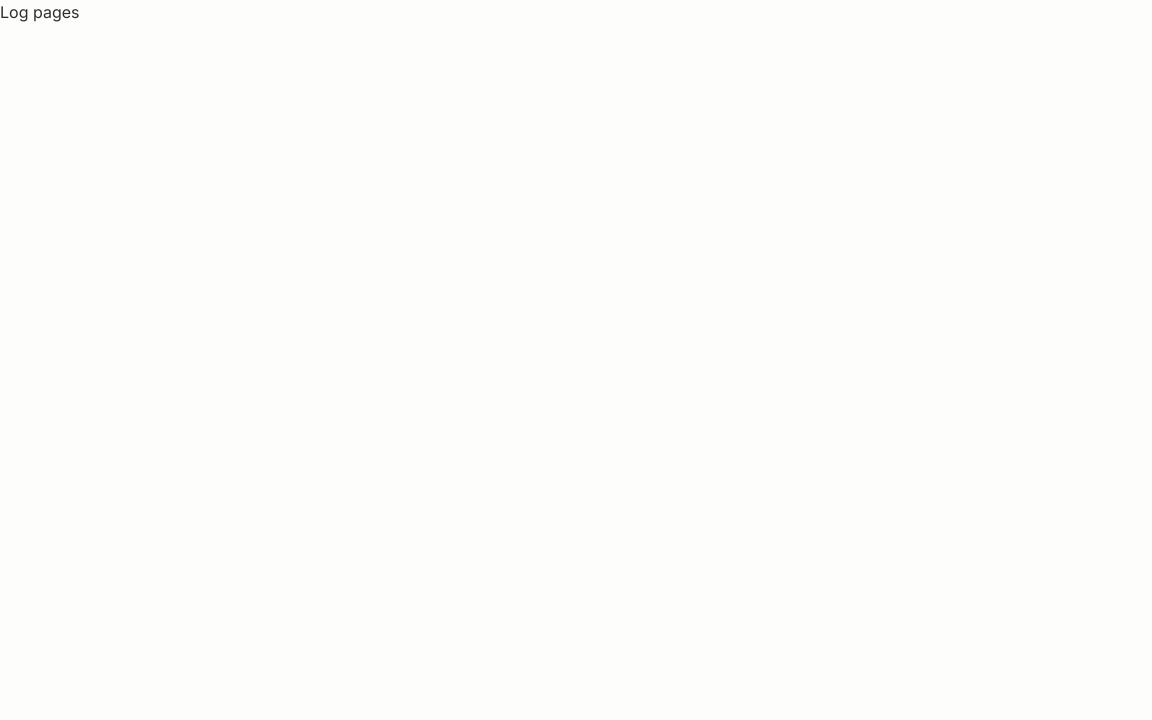
Test: HabitQuantityPopover › uses ResponsiveDialog (Drawer + back navigation) on mobile without nesting buttons
Step 1. Click the button "Log pages" → (40,12), box [0, 0, 80, 24]
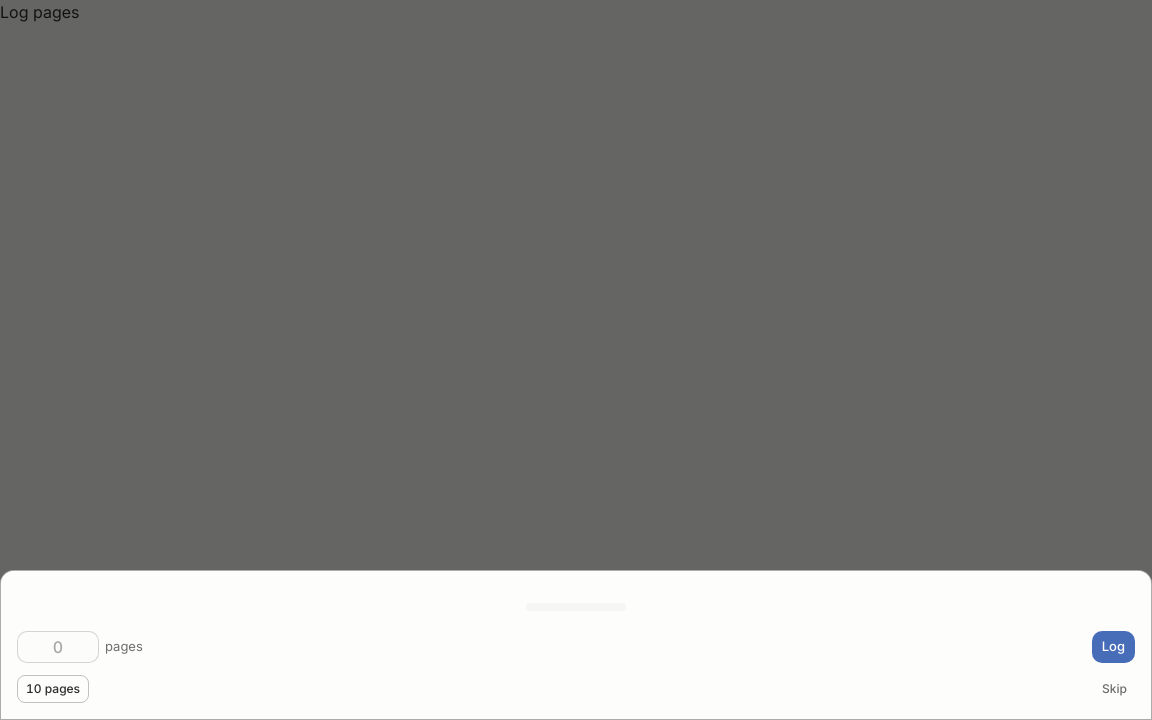
Check: the dialog is shown, box [0, 570, 1151, 719]
